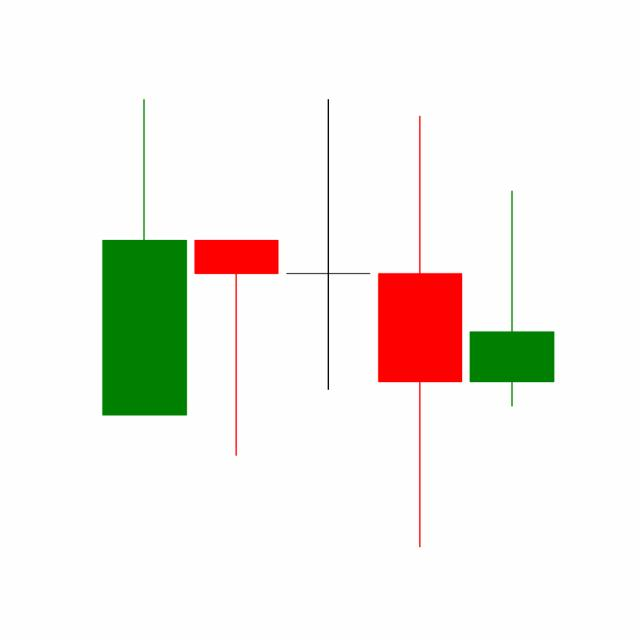Spinning Top: (373, 111, 467, 552)
